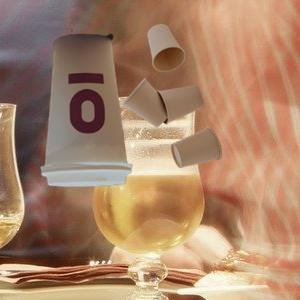cup: (39, 35, 132, 189)
